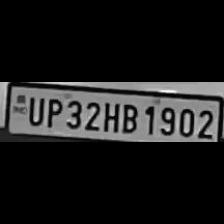0: (177, 104, 195, 136)
1: (140, 102, 156, 136)
2: (82, 97, 100, 130), (195, 105, 213, 138)
3: (64, 96, 82, 130)
9: (156, 102, 176, 136)
B: (119, 100, 139, 134)
H: (101, 99, 119, 133)
P: (42, 94, 62, 128)
U: (24, 93, 43, 125)
